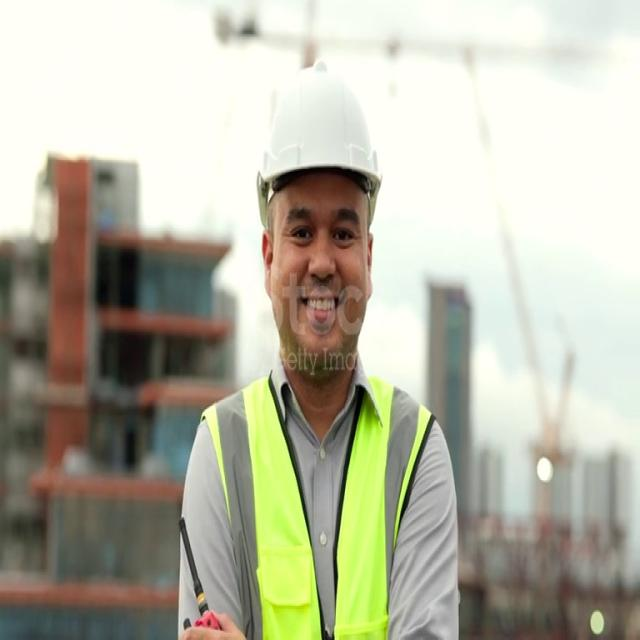capacete: (235, 48, 390, 240)
